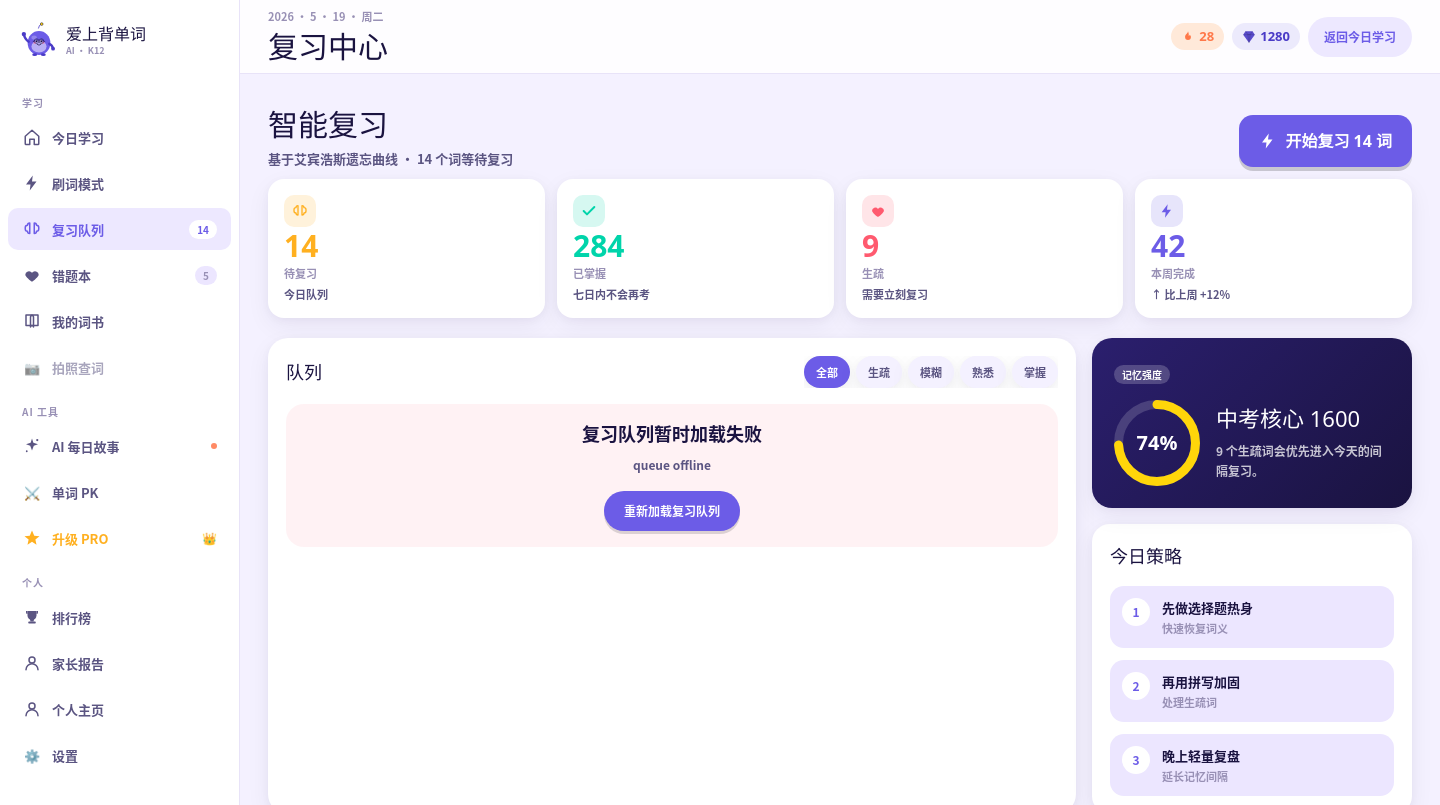
Test: ReviewScreen › shows an API failure state and retries loading the queue
expect the heading "复习队列暂时加载失败" is shown: met, box [582, 420, 762, 446]
expect the text "queue offline" is shown: met, box [633, 456, 711, 473]
Click the button "重新加载复习队列".
click(672, 510)  # box [604, 490, 740, 530]
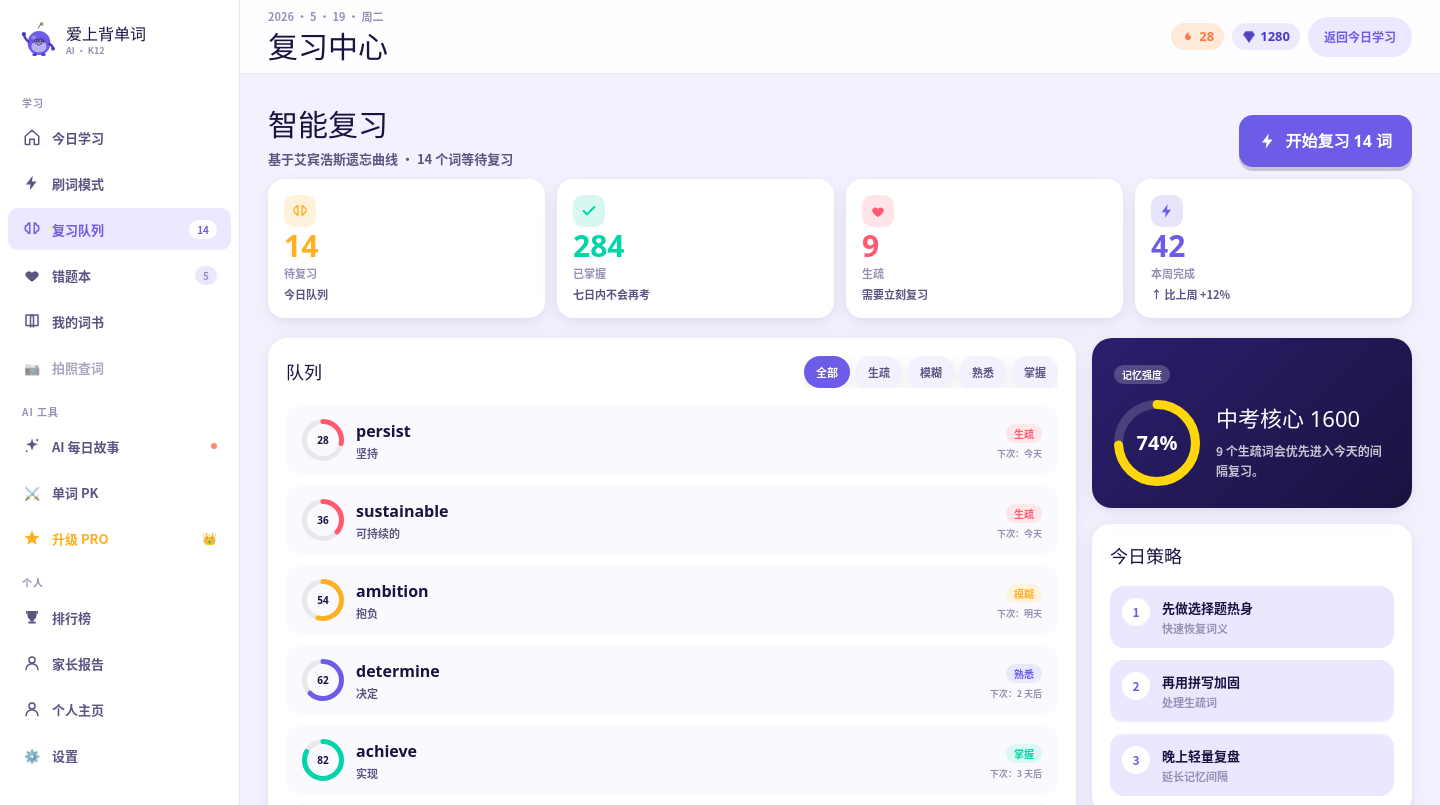
expect the button "28 persist 坚持 生疏 下次：今天" is shown: met, box [286, 404, 1058, 476]
